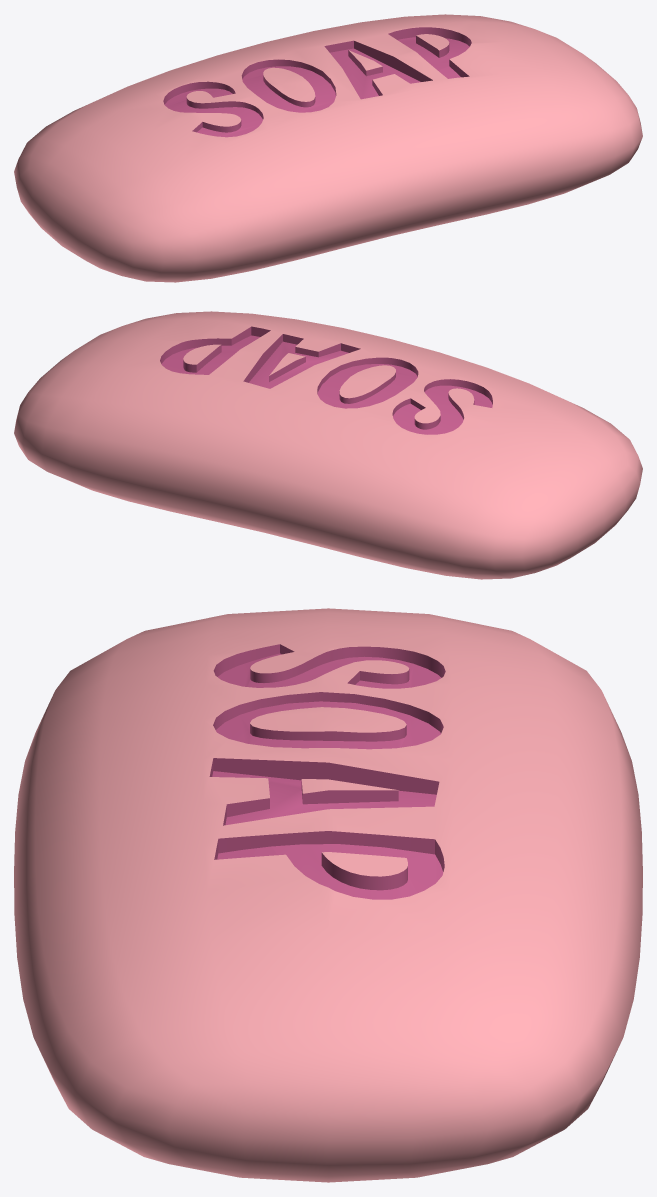
File: Soap.fbx
3 views of the same model, one above another, from view 1: azimuth 30°, elevation 25°; view 2: azimuth 150°, elevation 25°; view 3: azimuth 270°, elevation 25° (orthographic). The views are drawn at different scales.
Visible parts, largest first — view 1: Cube.004; view 2: Cube.004; view 3: Cube.004.
Part boxes in pixels (bbox=[...]): Cube.004: bbox=[14, 14, 642, 282]; Cube.004: bbox=[14, 311, 642, 579]; Cube.004: bbox=[14, 608, 642, 1182].
Size of the model in its own units: 0.1671 by 0.04 by 0.0926.
